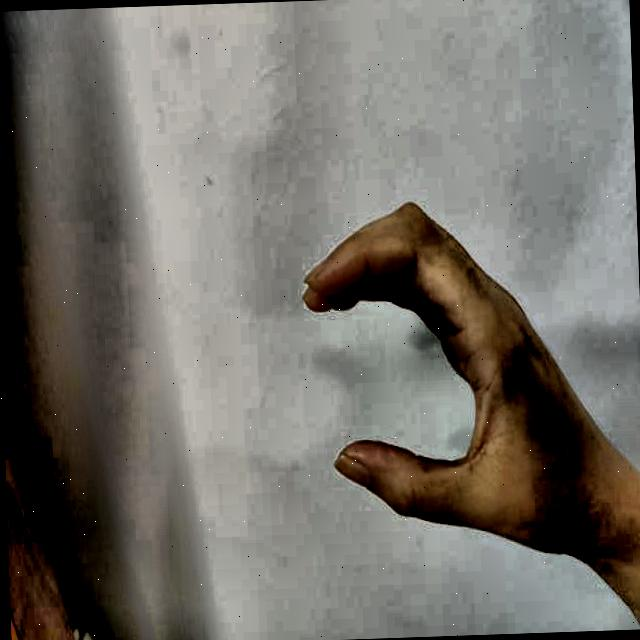A: (274, 176, 578, 586)
